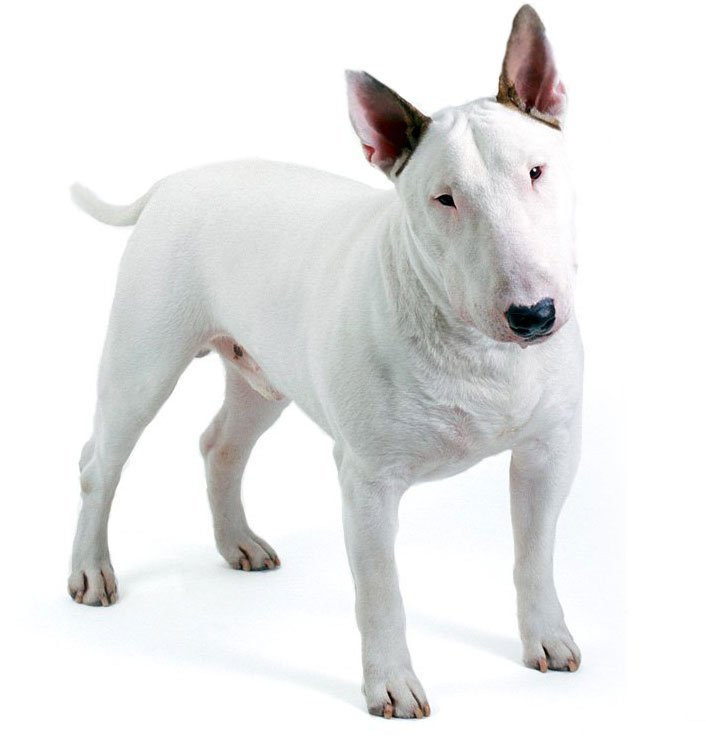bull_terrier: (67, 2, 586, 720)
